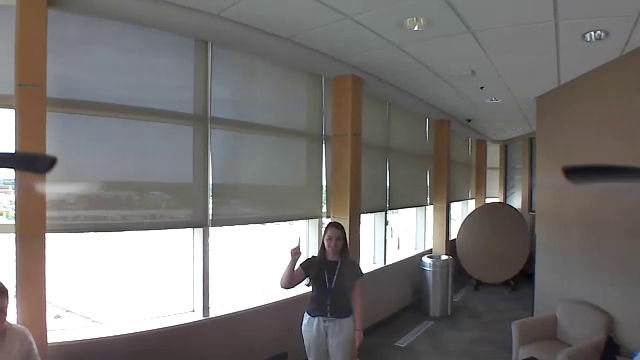up: (285, 233, 306, 260)
